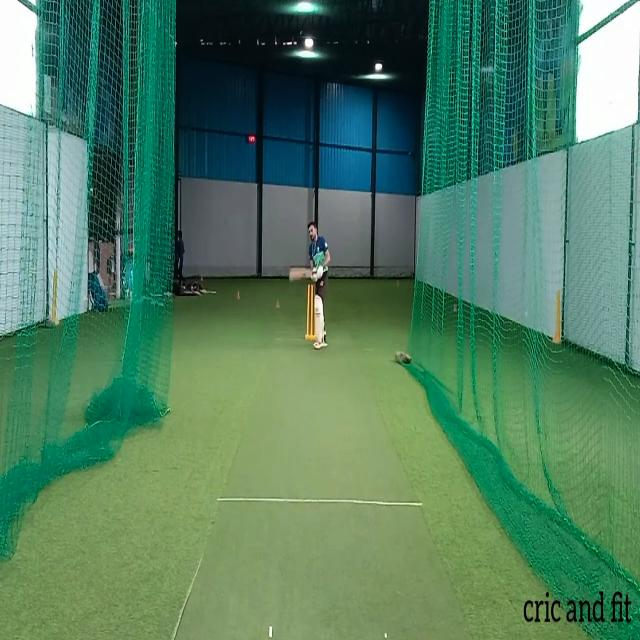batsman: (288, 220, 331, 351)
